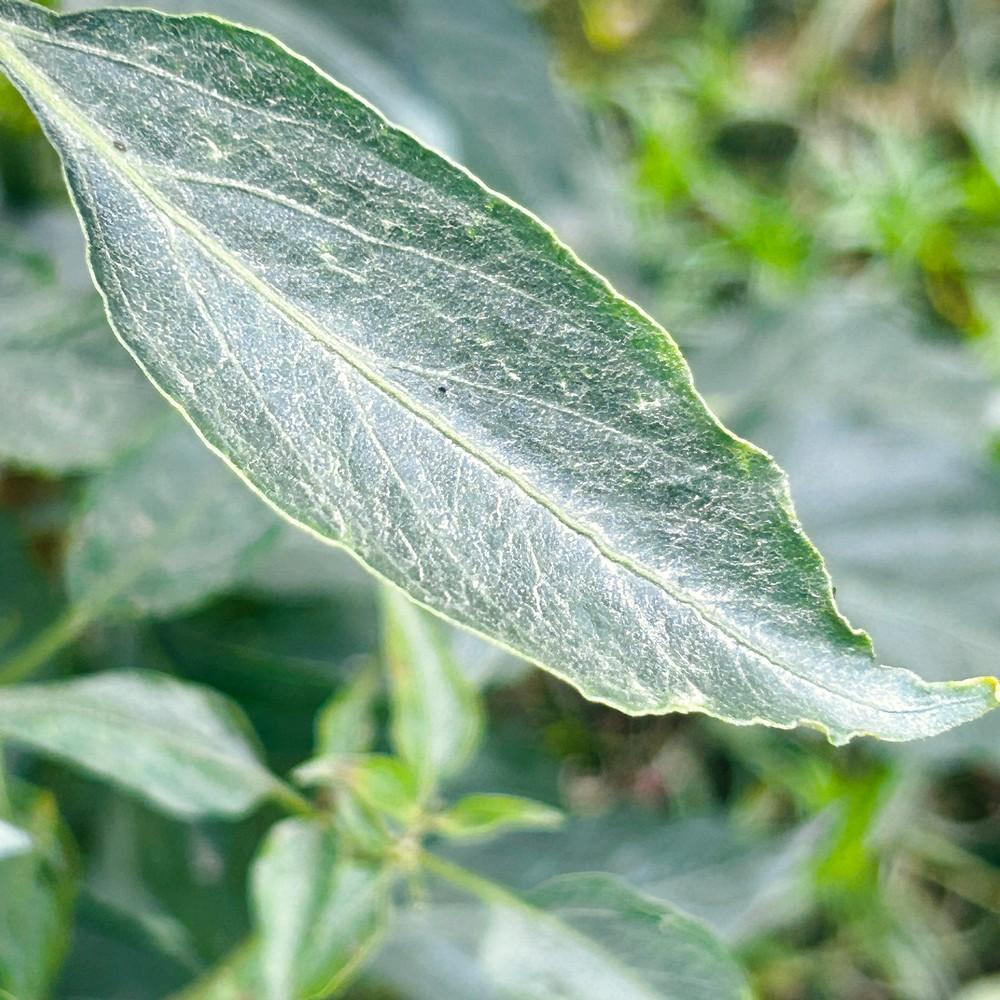Daun Cabai Sehat: (0, 1, 998, 748)
